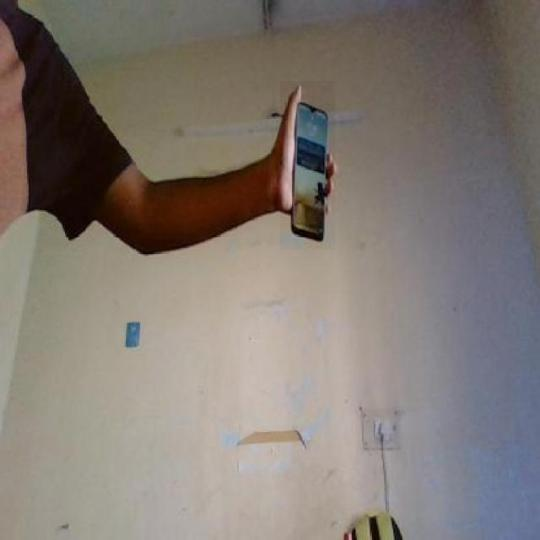phone: (287, 97, 341, 246)
